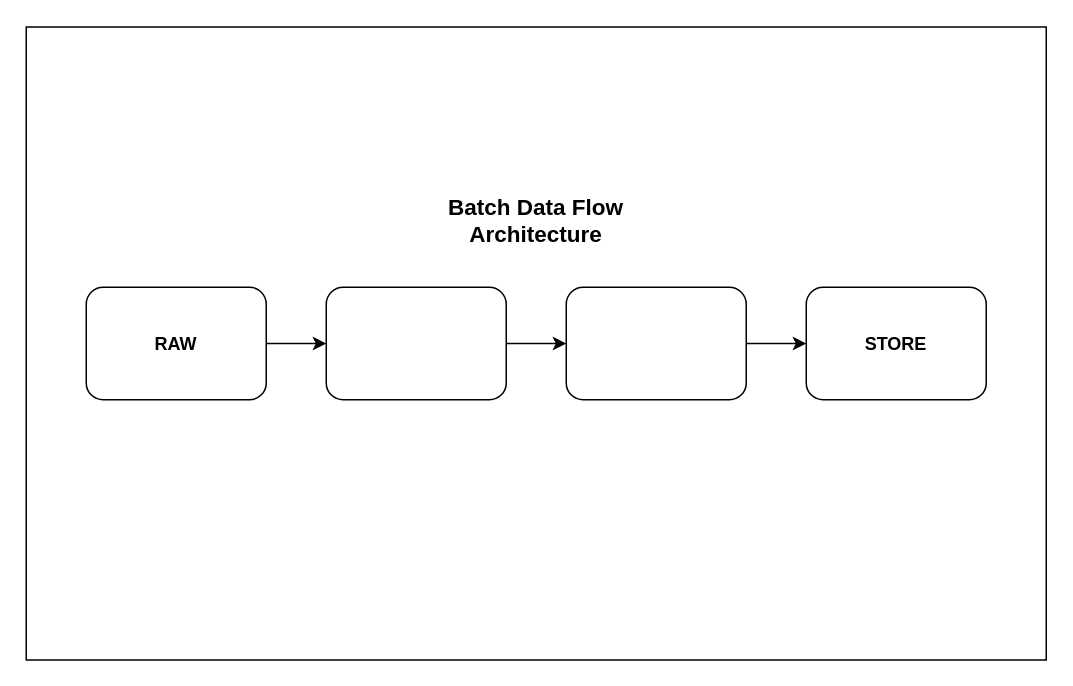
Some shapes in this 1073 by 686 pixel diagram are drawn without their labels. The box of each missing label's shape, as (x1, y1, x2, y2) in pixels:
BUFFER: (325, 286, 506, 400)
ETL: (565, 286, 746, 400)
